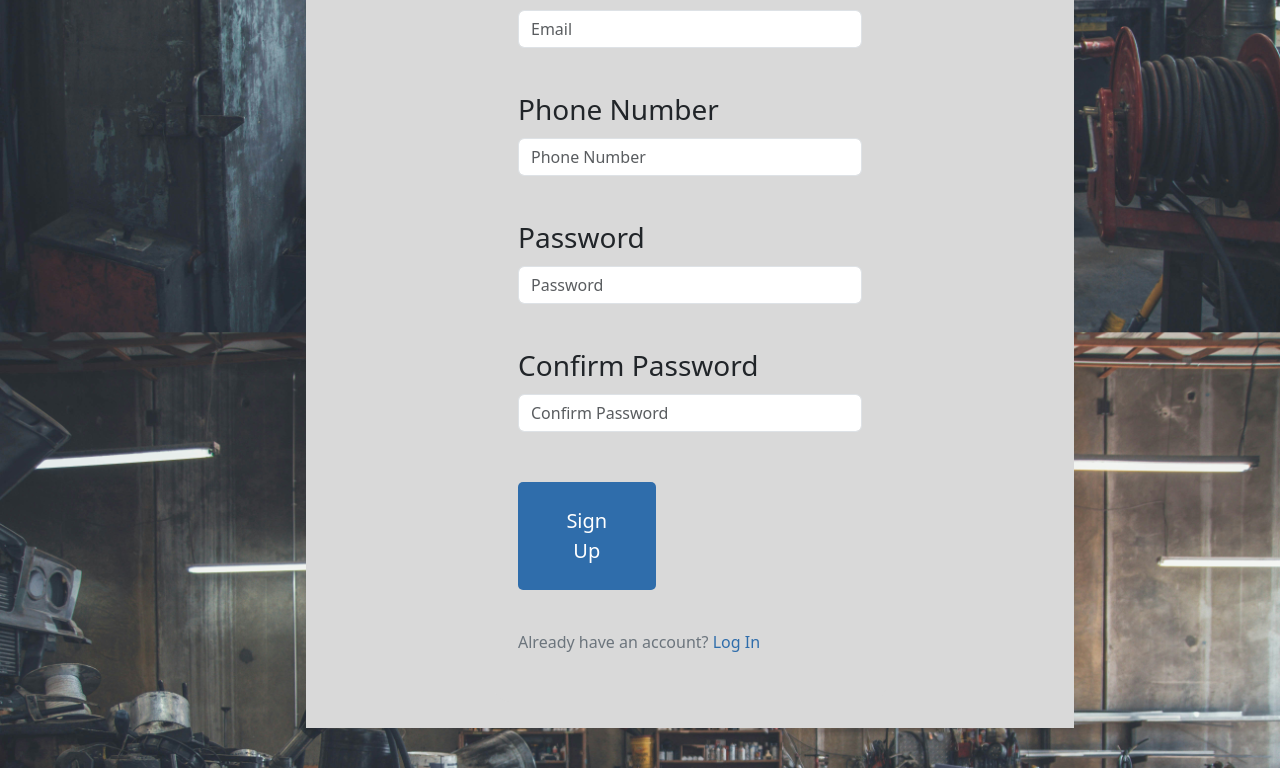
Scenario: CustomerCreation Component › Validation Tests › shows required errors when submitting empty form
(page scrolled)
Click the button "Sign Up": (587, 536) x1=518 y1=482 x2=656 y2=590
(page scrolled)
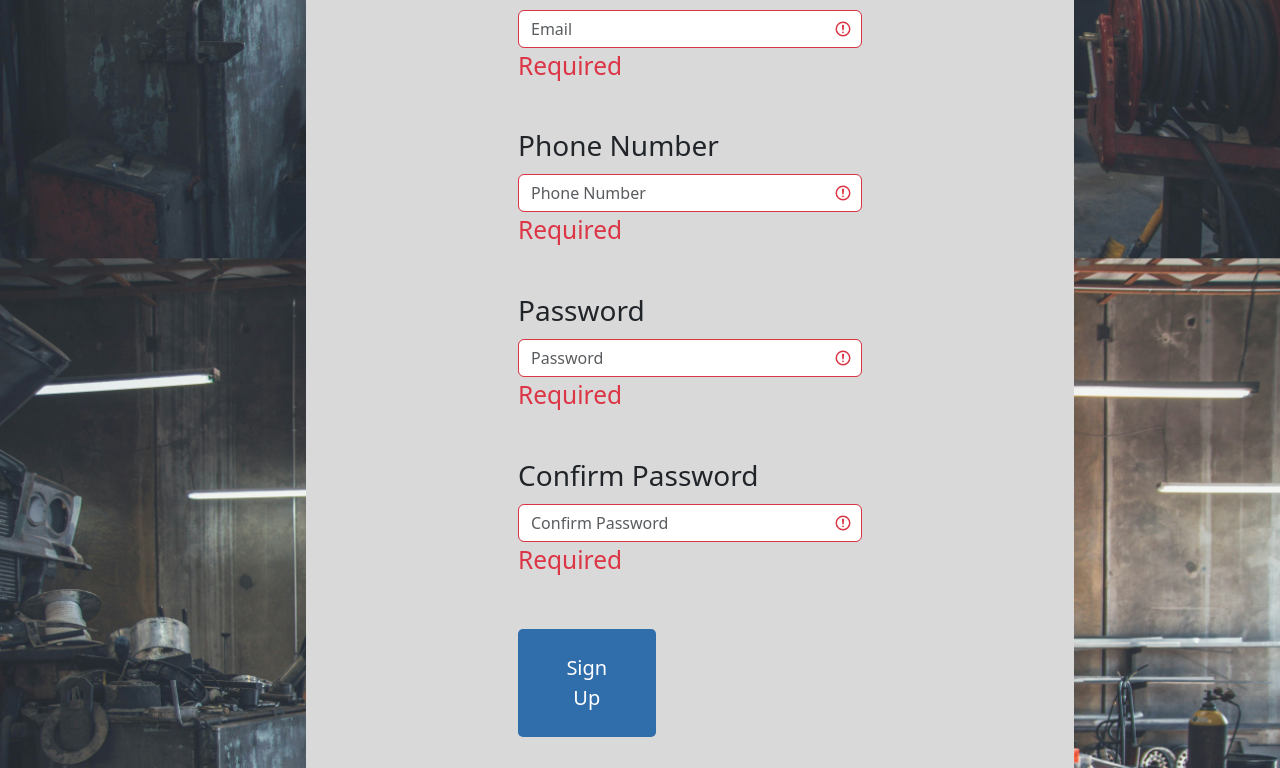
Now the text "Required" is shown 6 times
